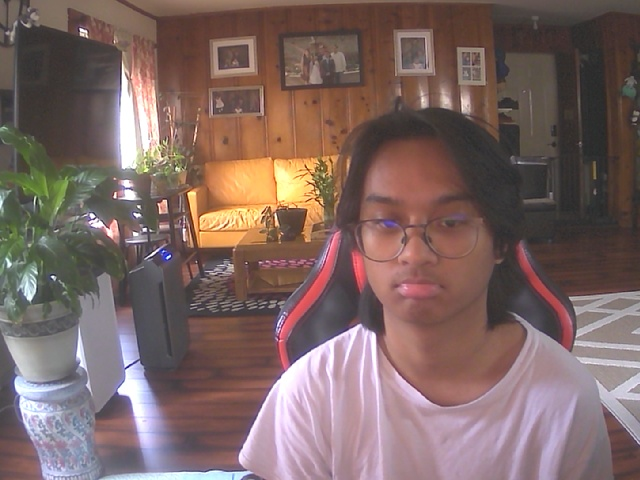sad: (346, 122, 513, 327)
